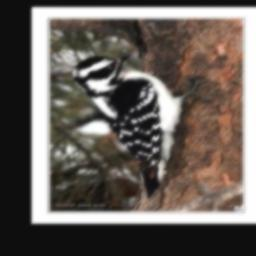Woodpecker: (72, 55, 205, 203)
